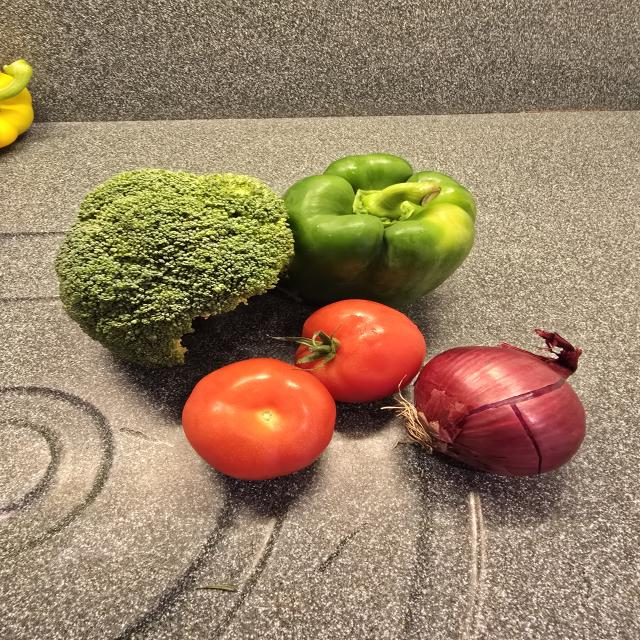Bell Pepper: (282, 154, 476, 309)
Broccoli: (55, 169, 294, 368)
Onion: (410, 331, 585, 476)
Tomato: (182, 358, 336, 480), (294, 299, 426, 402)
